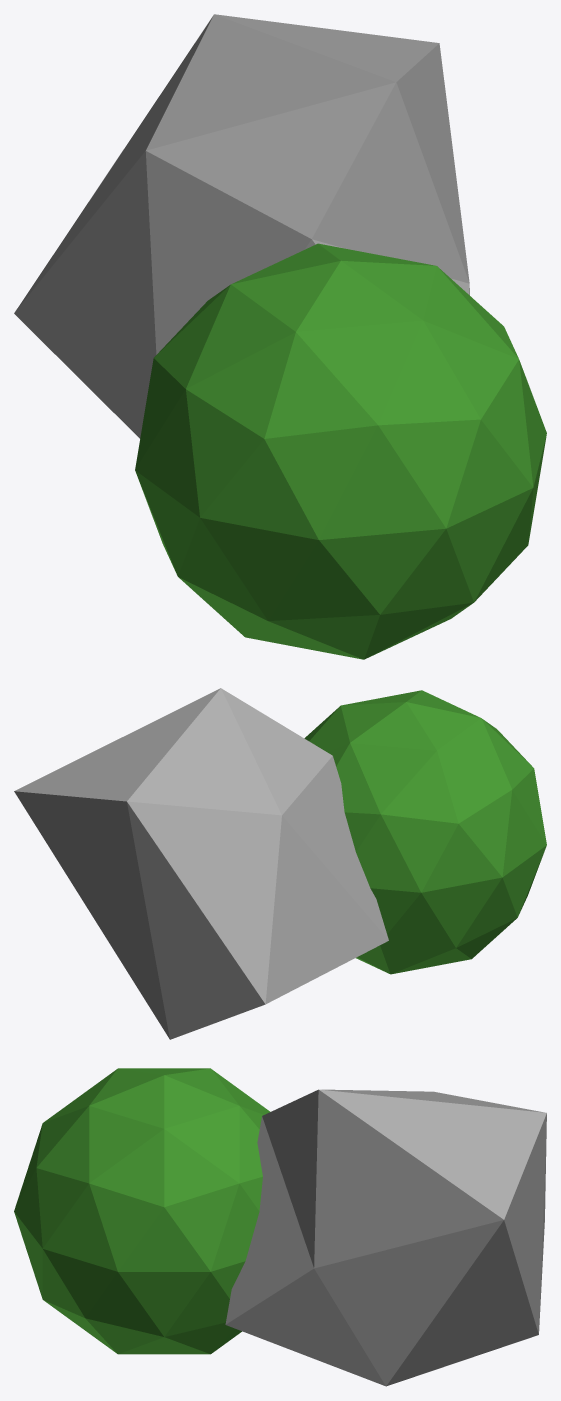
File: rock5.fbx
3 views of the same model, one above another, from view 1: azimuth 30°, elevation 25°; view 2: azimuth 150°, elevation 25°; view 3: azimuth 270°, elevation 25° (orthographic). The views are drawn at different scales.
Visible parts, largest first — view 1: Icosphere.011, Icosphere.008; view 2: Icosphere.008, Icosphere.011; view 3: Icosphere.008, Icosphere.011.
Boxes of the visible parts, box(x1,y1,x2,y2) form: Icosphere.011: box(135, 243, 546, 659); Icosphere.008: box(14, 14, 469, 438); Icosphere.008: box(14, 688, 388, 1039); Icosphere.011: box(304, 690, 546, 974); Icosphere.008: box(225, 1089, 546, 1386); Icosphere.011: box(14, 1068, 270, 1354).
Size of the model in its own units: 72.17 by 59.69 by 91.5.
